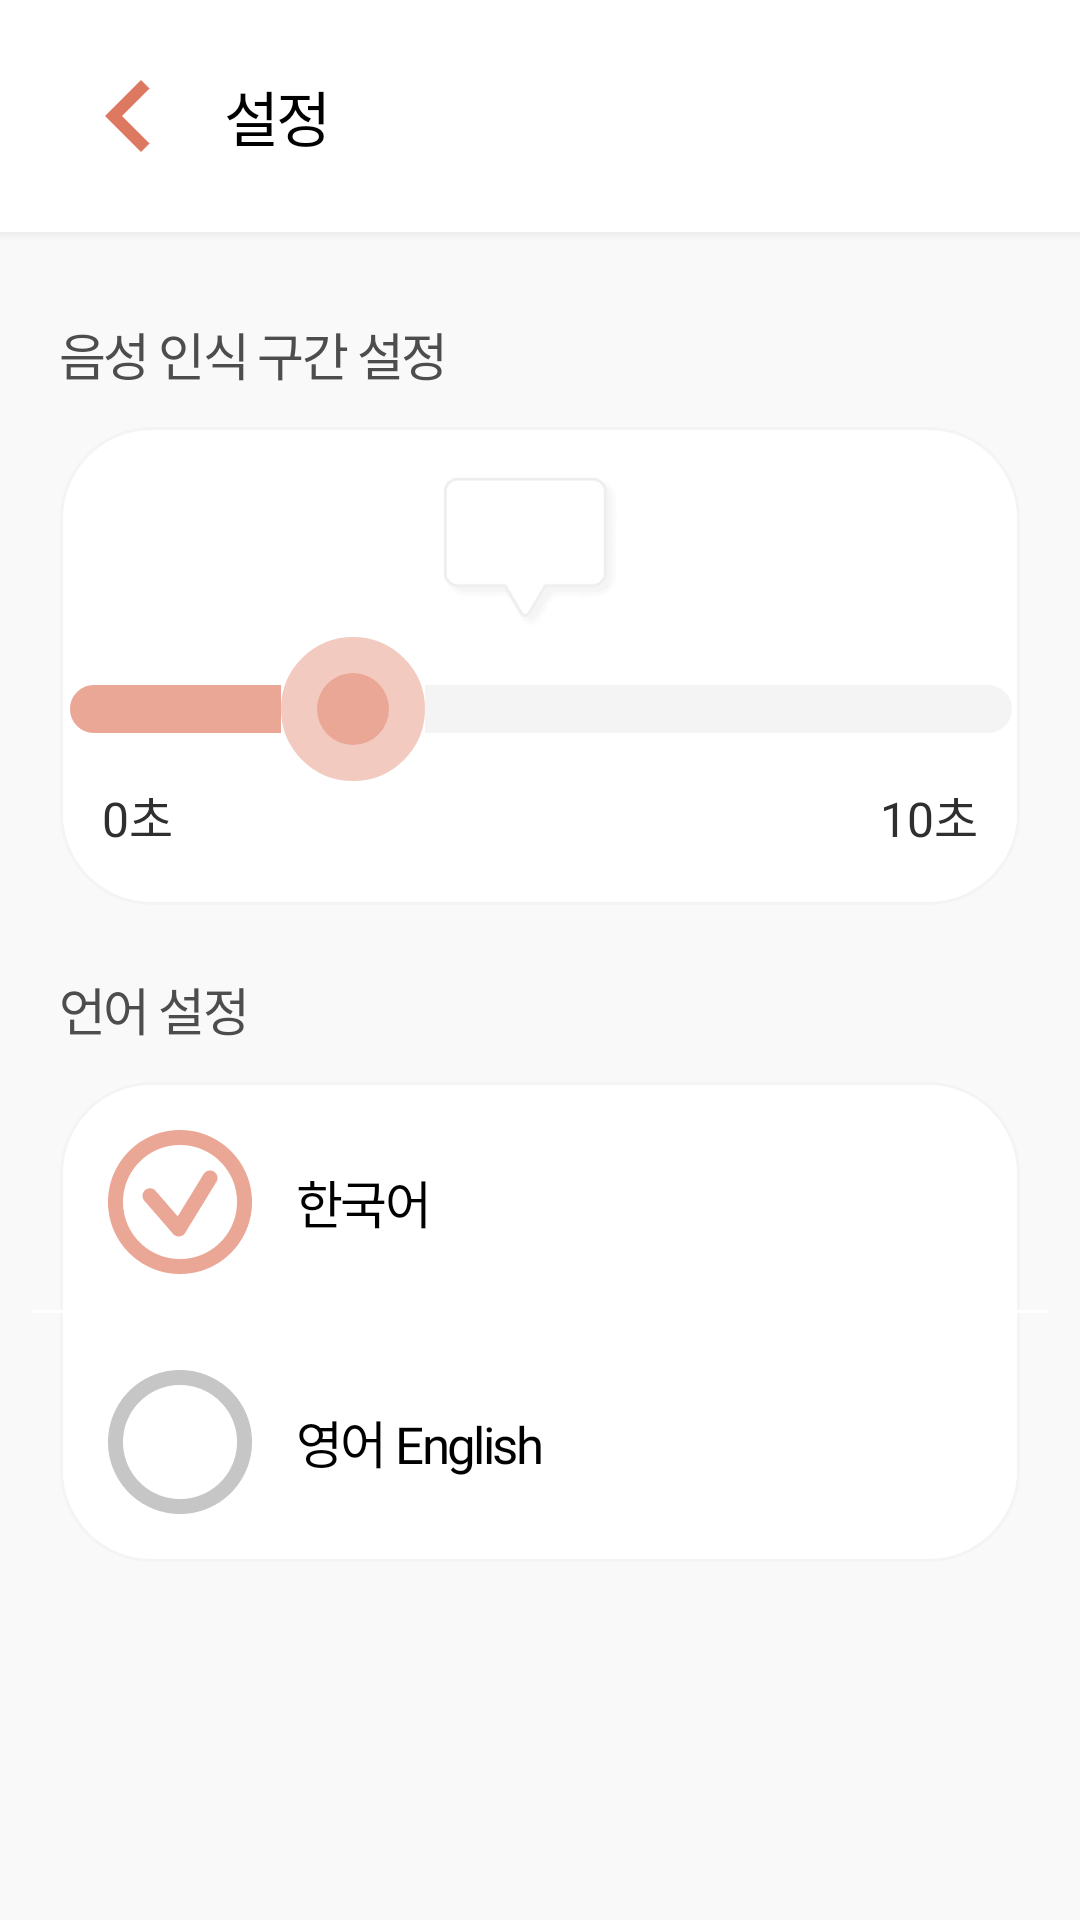

Icon click points for this 1080x1920 phone screenshot, format (x,y):
뒤로 가기: (127,116)
